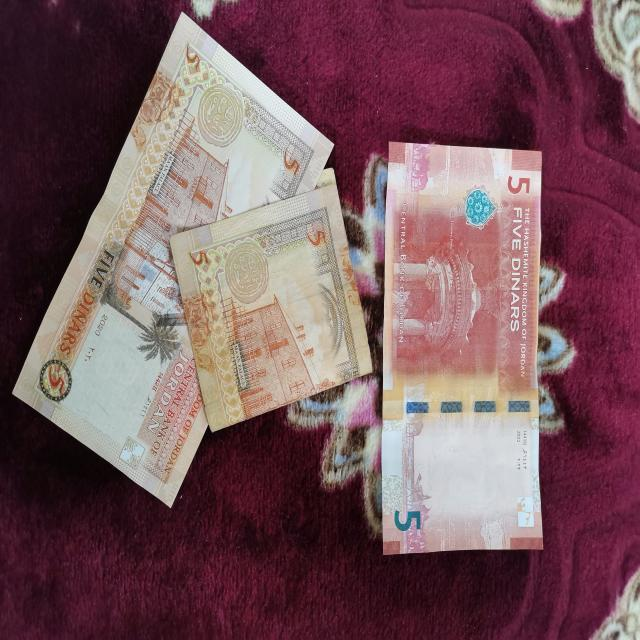5-dinar: (14, 10, 336, 510), (380, 138, 549, 566), (171, 166, 372, 434)
